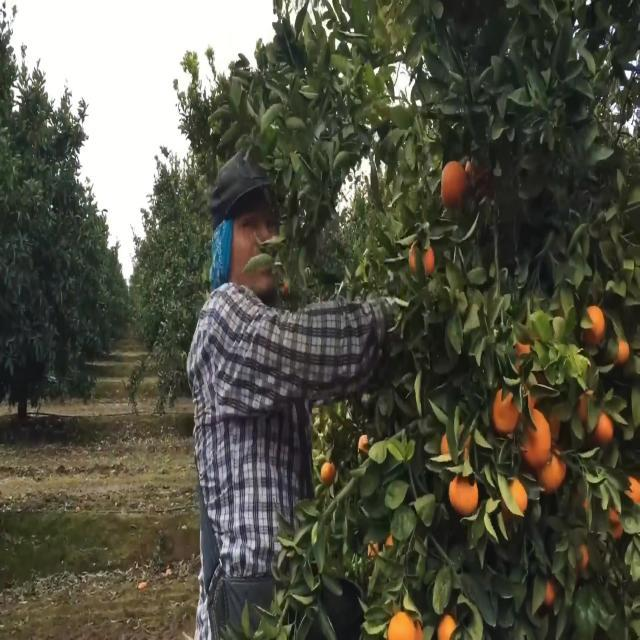Jeruk Sudah Matang: (514, 398, 555, 472), (487, 374, 523, 434), (442, 468, 483, 519), (436, 156, 473, 210), (382, 600, 428, 640), (581, 295, 611, 353), (542, 449, 566, 492)
